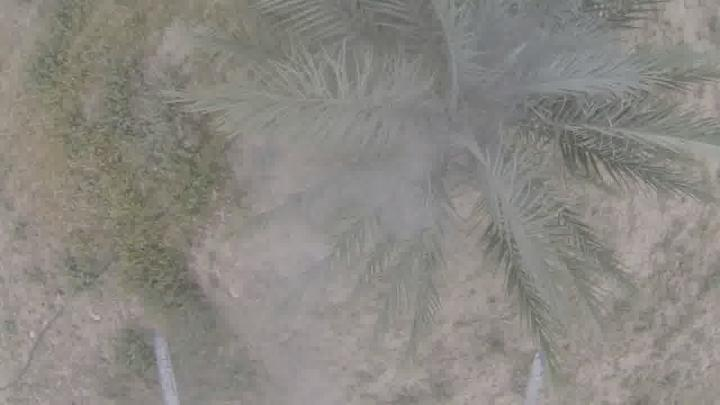Date-Palm-Crown: (298, 4, 580, 254)
